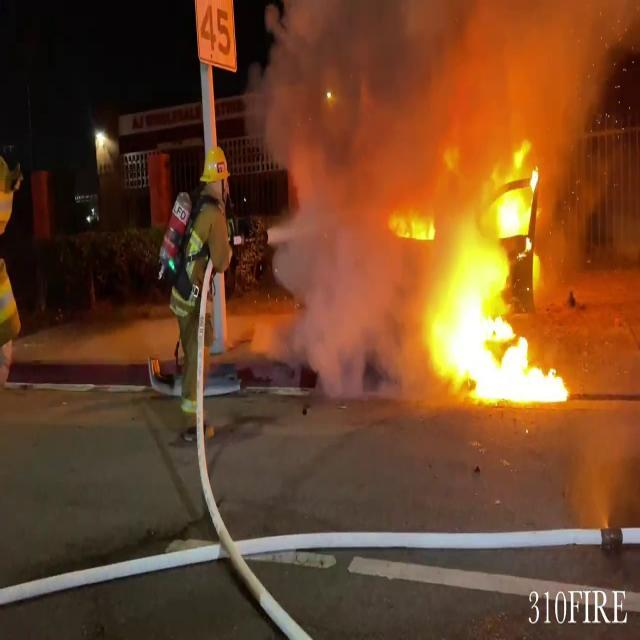Fire: (401, 133, 573, 410)
Smoke: (245, 0, 450, 381)
